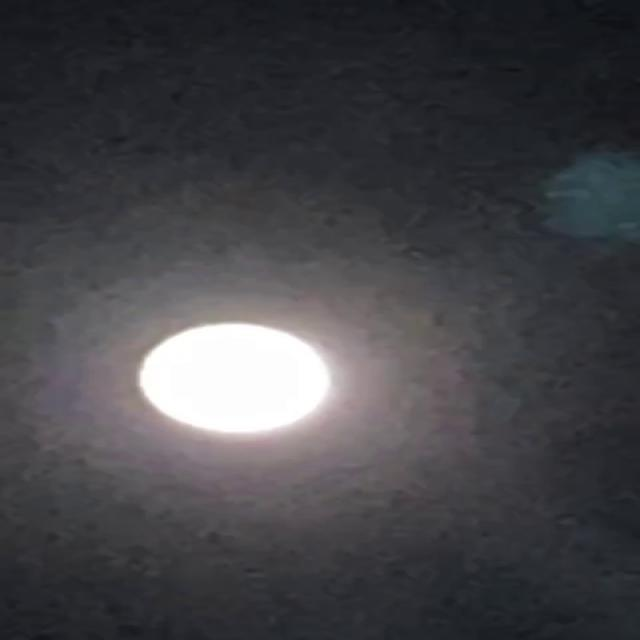moon: (126, 294, 364, 438)
